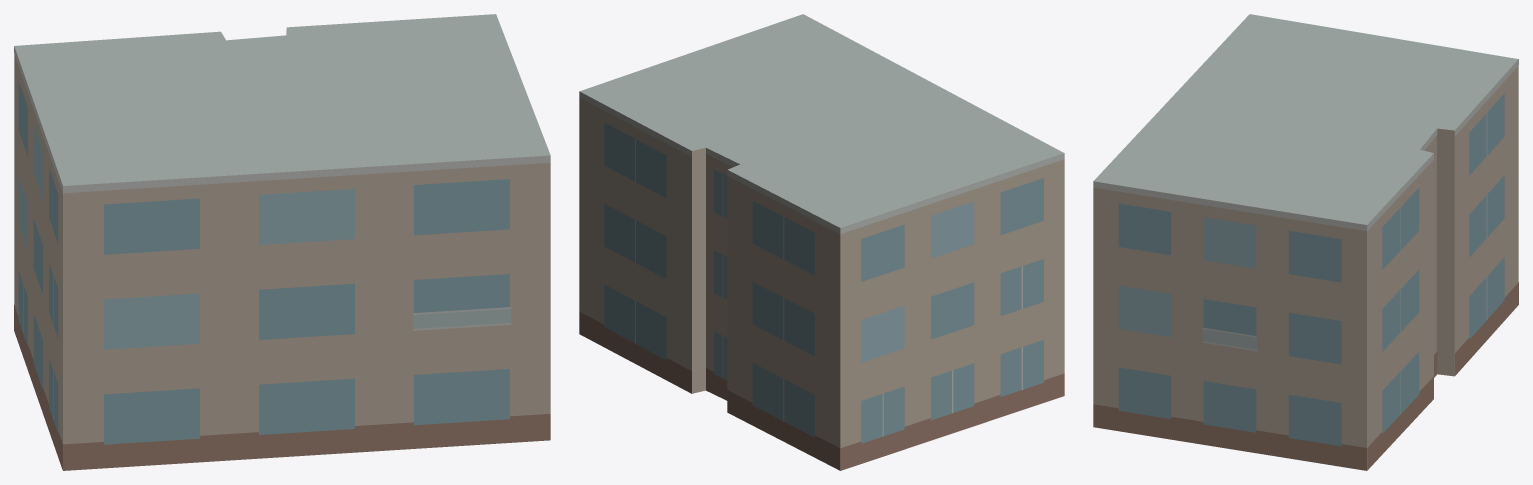
File: survey-upis-33013249.glb
3 renders of one model, left to right at view 1: azimuth 30°, elevation 25°; view 2: azimuth 150°, elevation 25°; view 3: azimuth 270°, elevation 25°, orthographic. The views are drawn at different scales.
Parts seen in each view (by area): view 1: survey-upis-33013249.tmp; view 2: survey-upis-33013249.tmp; view 3: survey-upis-33013249.tmp.
Part boxes in pixels (x1=…): survey-upis-33013249.tmp: x1=14, y1=14, x2=550, y2=470; survey-upis-33013249.tmp: x1=579, y1=14, x2=1064, y2=470; survey-upis-33013249.tmp: x1=1093, y1=14, x2=1518, y2=470.
Bounding box in the file's own units: 17.78 × 9.65 × 15.14.
